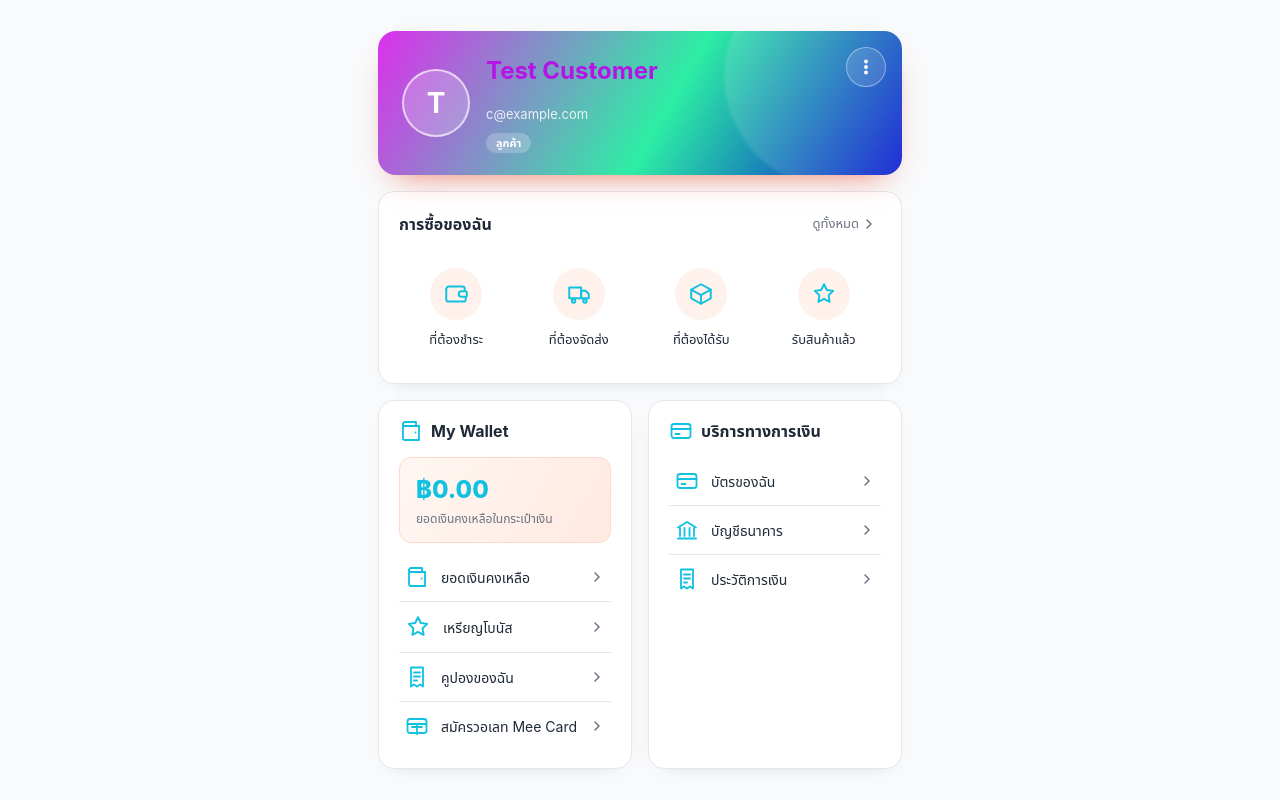
Test: Account -> Order Modal -> KBZPay Popup integration › วิธีชำระอื่นยังคงแสดงยอด THB เดิม (ไม่กระทบวิธีอื่น)
Click the button "ที่ต้องชำระ" at x=456, y=308, box [399,252,514,365]
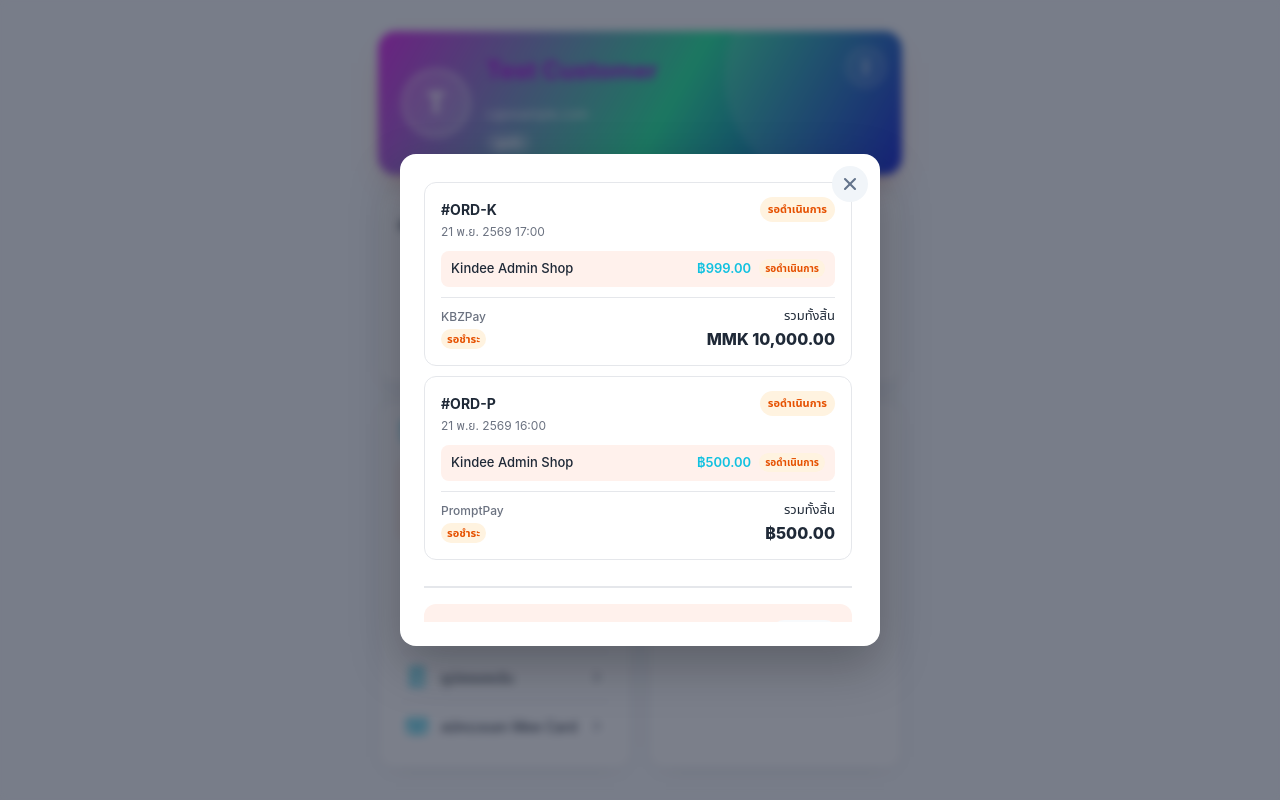
Result: the element with class "modal-container" shows "10,000" at [707,329,835,349]
Result: the element with class "modal-container" shows "500.00" at [697,454,751,470]
